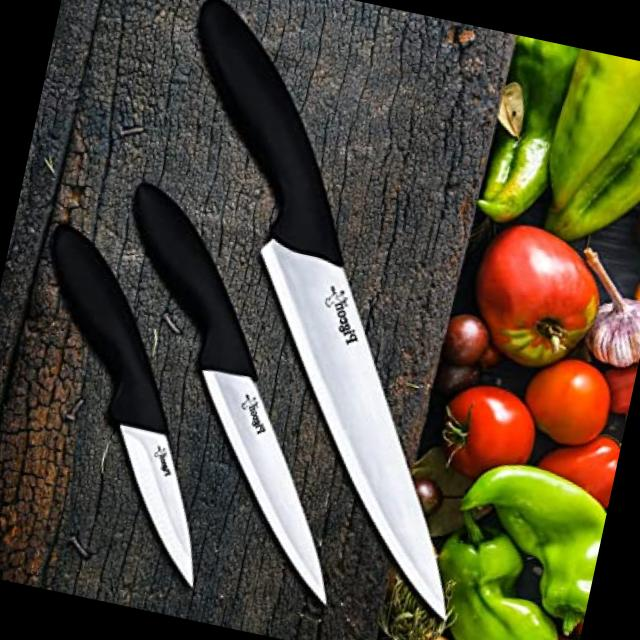Weapon: (74, 0, 570, 634), (42, 171, 420, 611), (0, 216, 265, 600)
